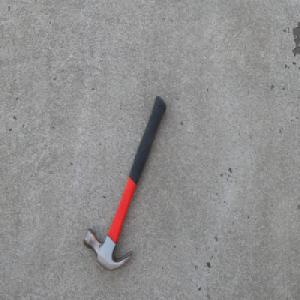Hammer: (82, 94, 167, 271)
